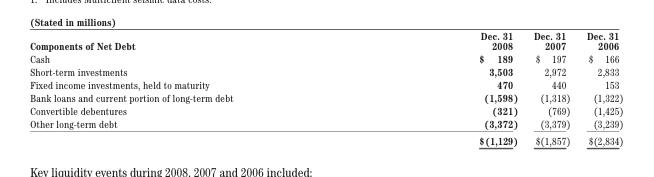table: (29, 29, 622, 145)
table column: (29, 29, 355, 145), (355, 29, 524, 145), (524, 29, 577, 145), (577, 29, 622, 145)
table column header: (29, 29, 622, 52)
table row: (29, 29, 622, 52), (29, 116, 622, 131), (29, 131, 622, 145), (29, 52, 622, 65), (29, 77, 622, 90), (29, 90, 622, 103), (29, 103, 622, 116), (29, 65, 622, 77)
